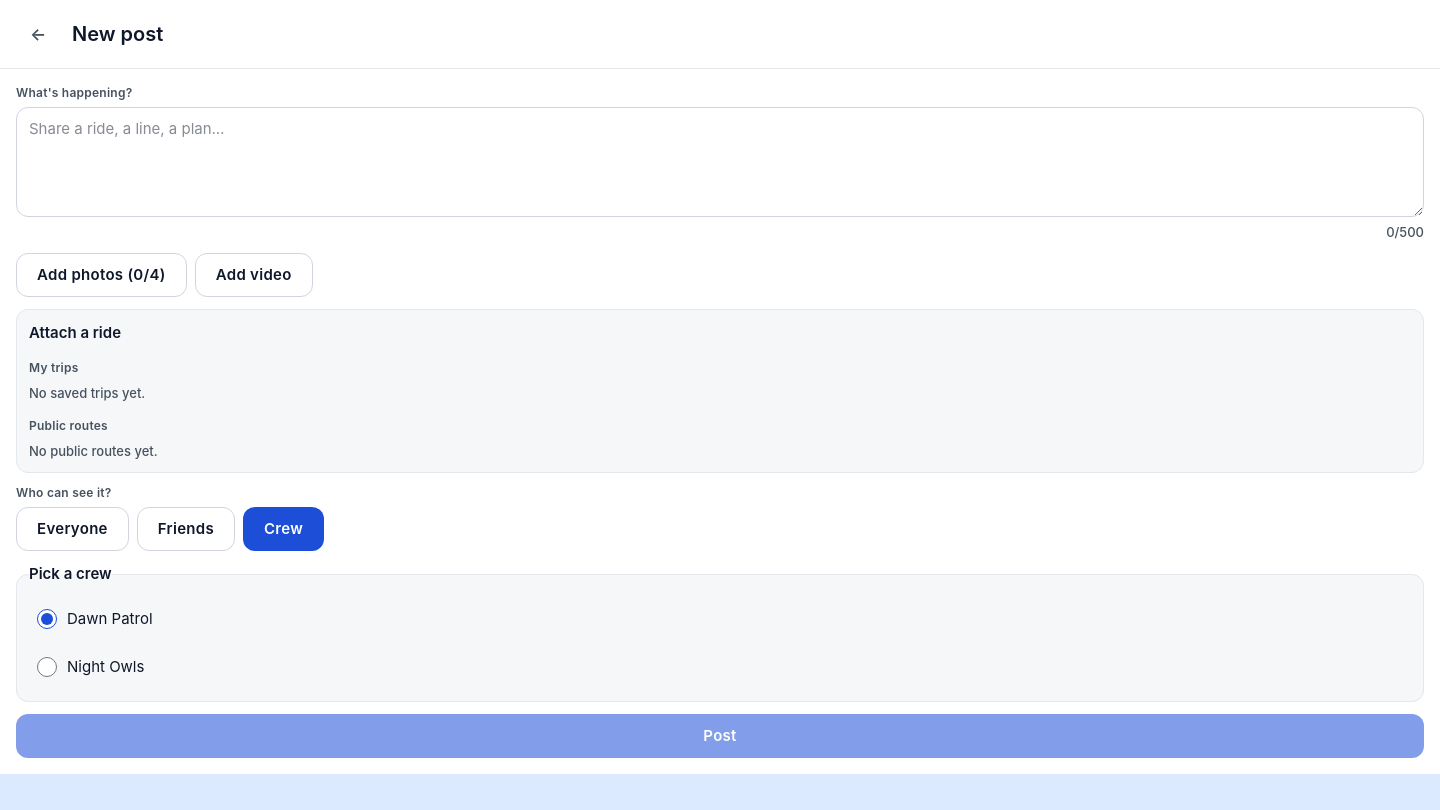
Test: composer audience trio › same-route re-navigation ?crew=A → ?crew=B switches audience, text preserved
The image size is (1440, 810).
Expected: the radio button labelled "Dawn Patrol" is checked, x1=37 y1=609 x2=57 y2=629
In the text box labelled "What's happening? 0/500": (720, 162) x1=16 y1=107 x2=1424 y2=217, type "keep me across crews"
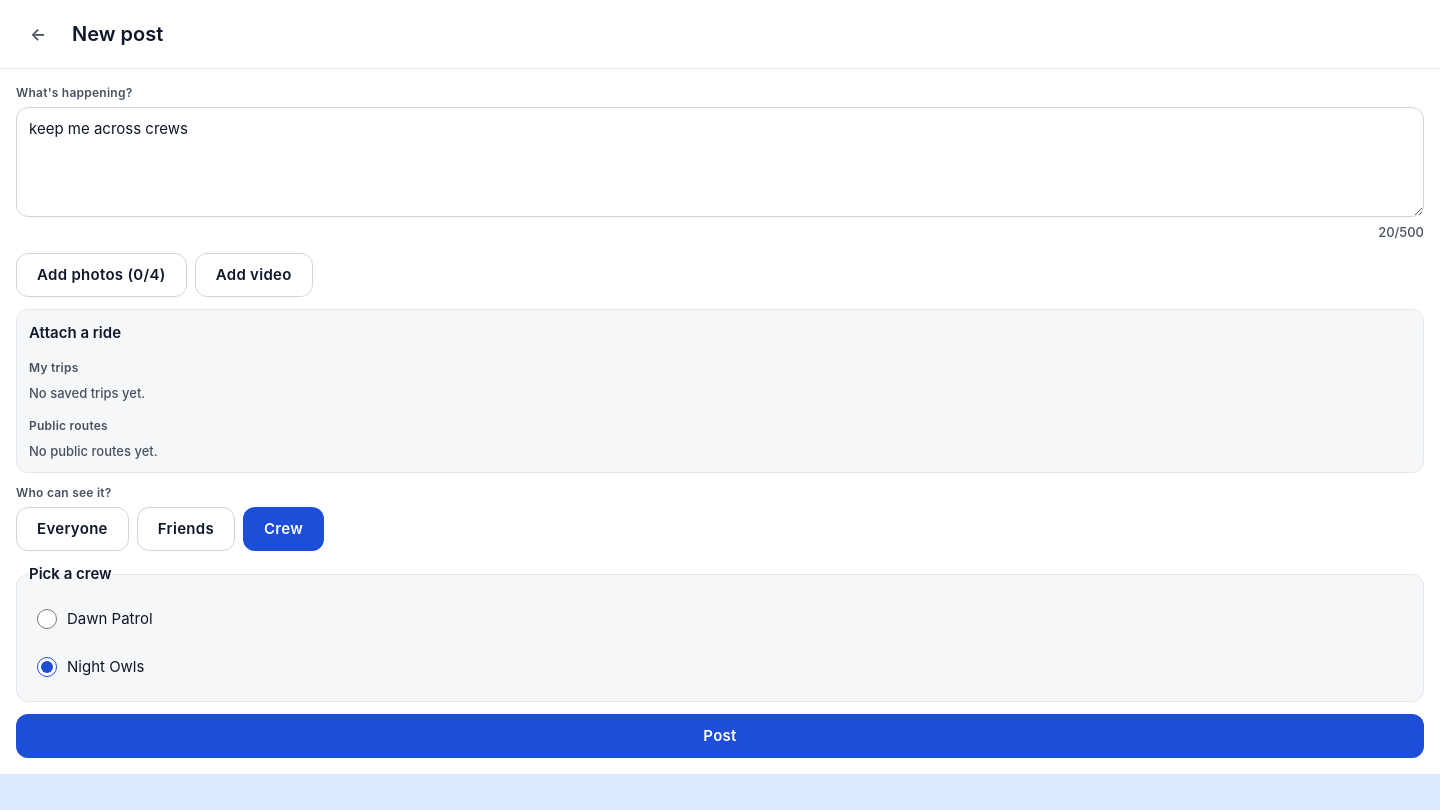
Now the radio button labelled "Night Owls" is checked, box x1=37 y1=657 x2=57 y2=677
